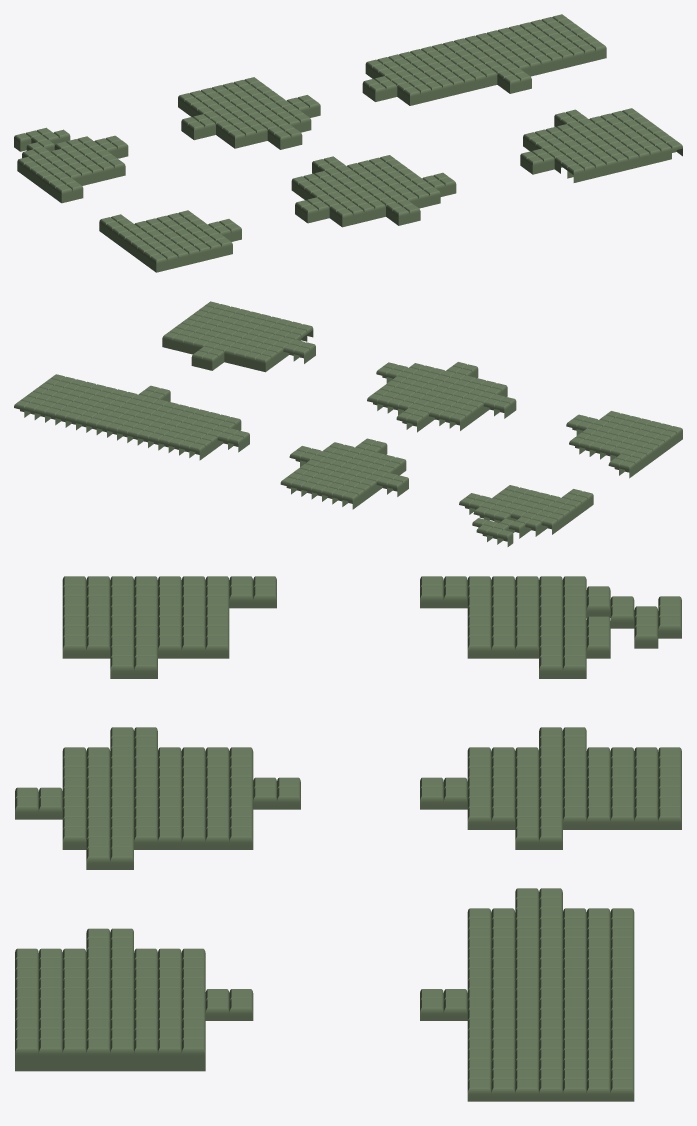
Rendered from level_2_fixed.fbx.
3 views of the same model, one above another, from view 1: azimuth 30°, elevation 25°; view 2: azimuth 150°, elevation 25°; view 3: azimuth 270°, elevation 25° (orthographic). The views are drawn at different scales.
Visible parts, largest first — view 1: no part large enough to name; view 2: no part large enough to name; view 3: lowShape_MASH_l2_c6_Instancer_86, lowShape_MASH_l2_c6_Instancer_81, lowShape_MASH_l2_c6_Instancer_85, lowShape_MASH_l2_c6_Instancer_80, lowShape_MASH_l2_c6_Instancer_82, lowShape_MASH_l2_c6_Instancer_84, lowShape_MASH_l2_c6_Instancer_87.
Part boxes in pixels (x1,y1,x2,y2): lowShape_MASH_l2_c6_Instancer_86: (38, 1039, 62, 1071); lowShape_MASH_l2_c6_Instancer_81: (86, 1039, 110, 1071); lowShape_MASH_l2_c6_Instancer_85: (181, 1039, 205, 1071); lowShape_MASH_l2_c6_Instancer_80: (62, 1039, 86, 1071); lowShape_MASH_l2_c6_Instancer_82: (110, 1039, 133, 1071); lowShape_MASH_l2_c6_Instancer_84: (158, 1039, 181, 1071); lowShape_MASH_l2_c6_Instancer_87: (15, 1039, 38, 1071).
Bounding box in the file's own units: 5100 × 107 × 2800.
